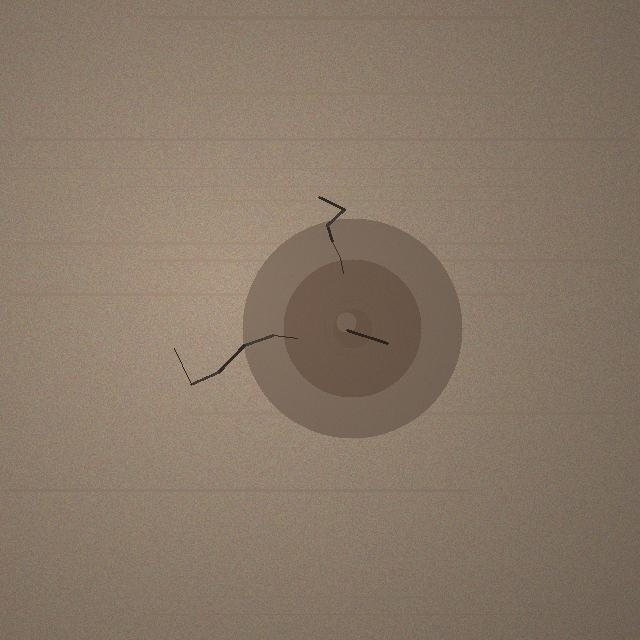crack: (242, 218, 462, 438)
